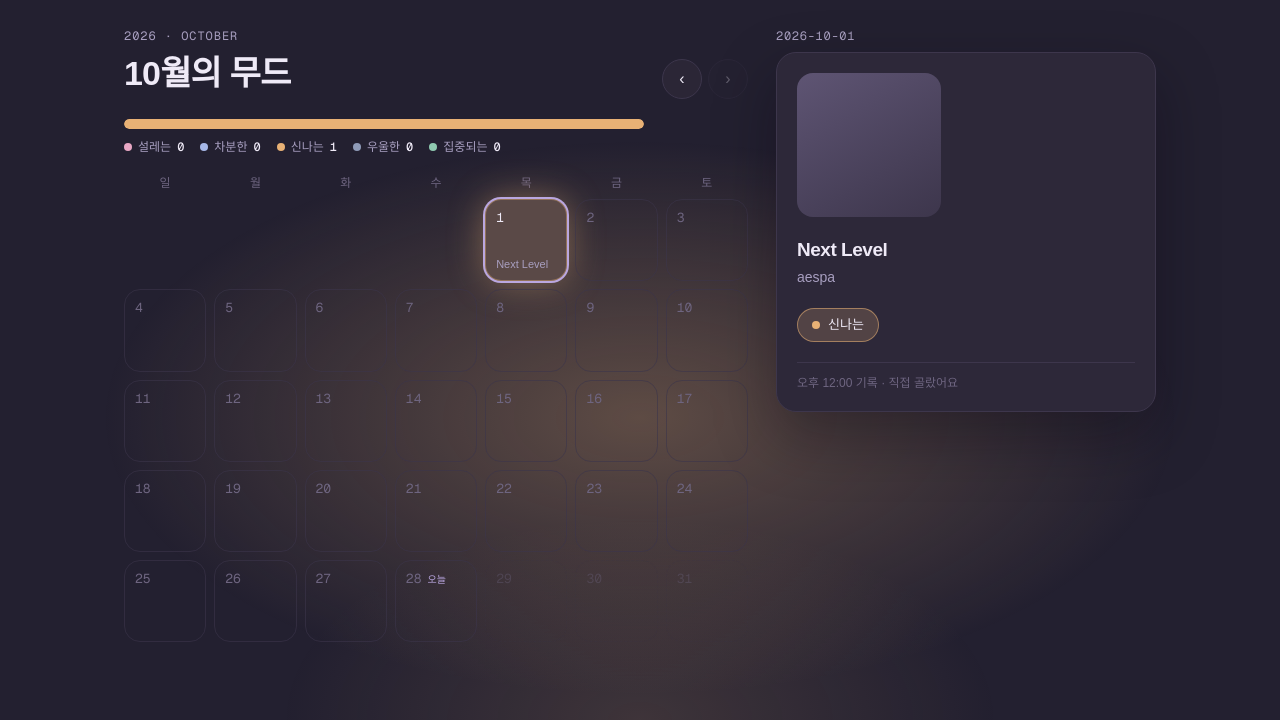
DiaryCalendar › shows an empty-day message when clicking a day with no records
The width and height of the screenshot is (1280, 720).
Click the button "2" at (617, 240), box [575,199,658,281]
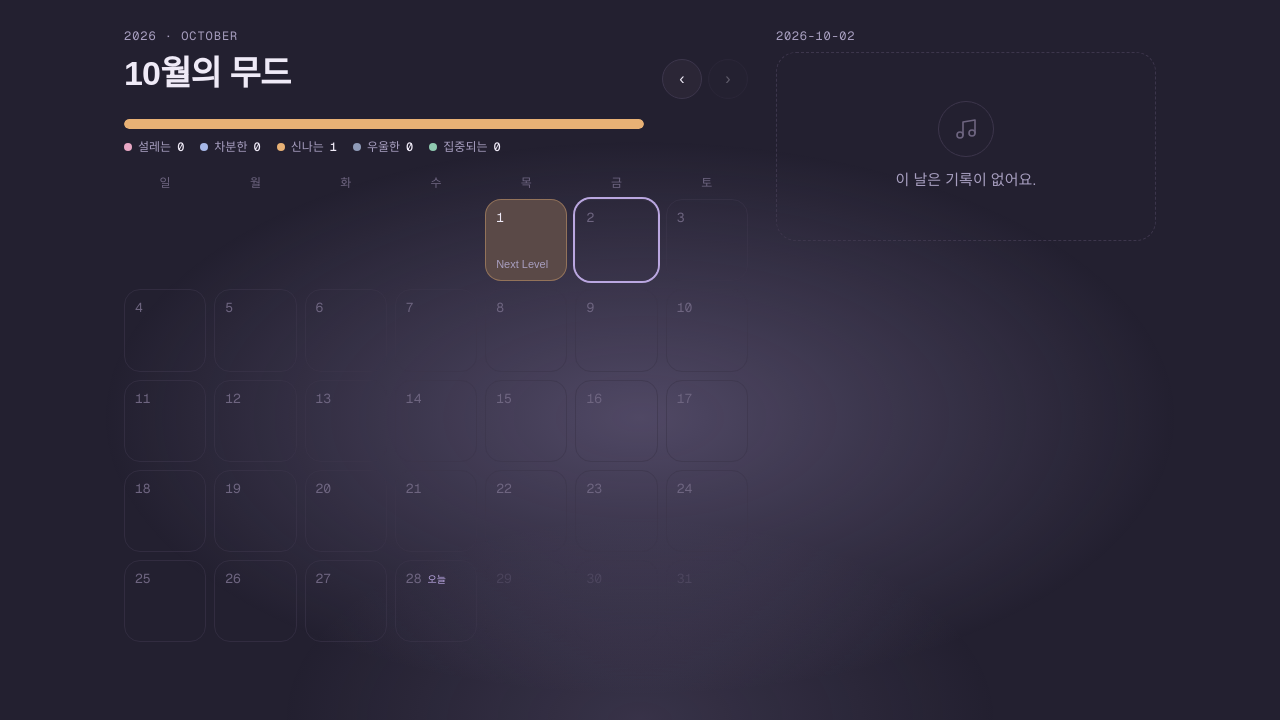
Result: the text "이 날은 기록이 없어요." is shown at [896,169,1036,192]
